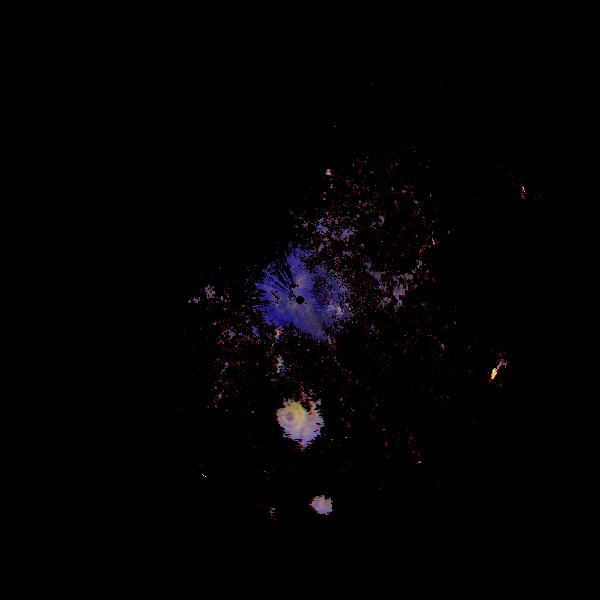roost: (276, 404, 309, 437), (310, 493, 331, 514)
